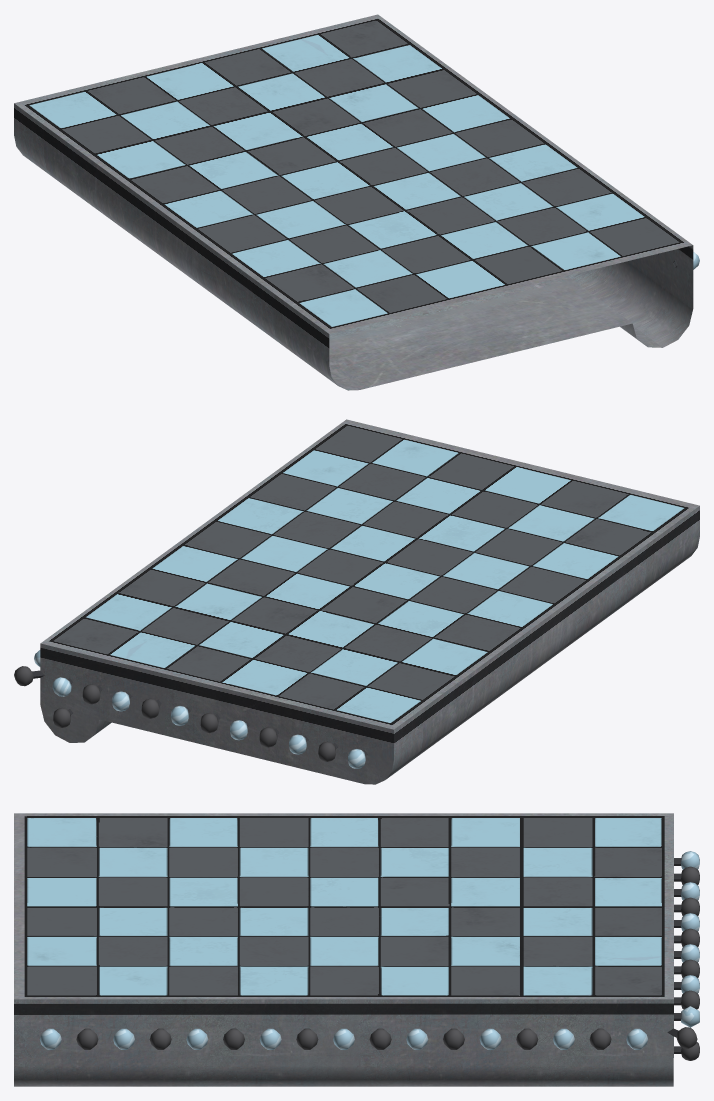
Rendered from Disco_Left_Platform.fbx.
3 views of the same model, one above another, from view 1: azimuth 30°, elevation 25°; view 2: azimuth 150°, elevation 25°; view 3: azimuth 270°, elevation 25° (orthographic). The views are drawn at different scales.
Visible parts, largest first — view 1: pSphere31; view 2: pSphere31; view 3: pSphere31.
Part boxes in pixels (x1,y1,x2,y2): pSphere31: (14,14,699,390); pSphere31: (14,419,699,784); pSphere31: (14,813,699,1086).
Size of the model in its own units: 6.36 by 1.5 by 9.36.
